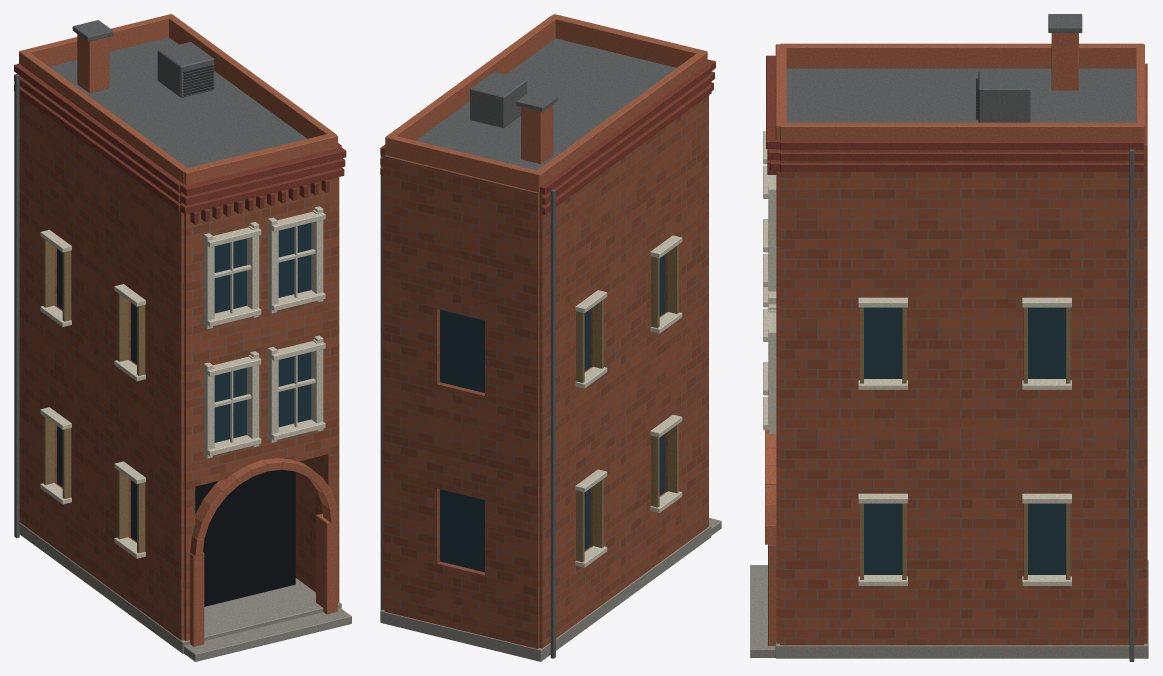
Rendered from VICT27_lod1.glb.
3 views of the same model, side by side, from view 1: azimuth 30°, elevation 25°; view 2: azimuth 150°, elevation 25°; view 3: azimuth 270°, elevation 25° (orthographic). The views are drawn at different scales.
Parts seen in each view (by area): view 1: VICT27_LOD1; view 2: VICT27_LOD1; view 3: VICT27_LOD1.
Boxes of the visible parts, bbox=[...] form: VICT27_LOD1: bbox=[14, 14, 351, 661]; VICT27_LOD1: bbox=[380, 14, 721, 661]; VICT27_LOD1: bbox=[750, 14, 1148, 661].
Size of the model in its own units: 3.71 by 10.45 by 6.57.
10 materials, 8 textured.
